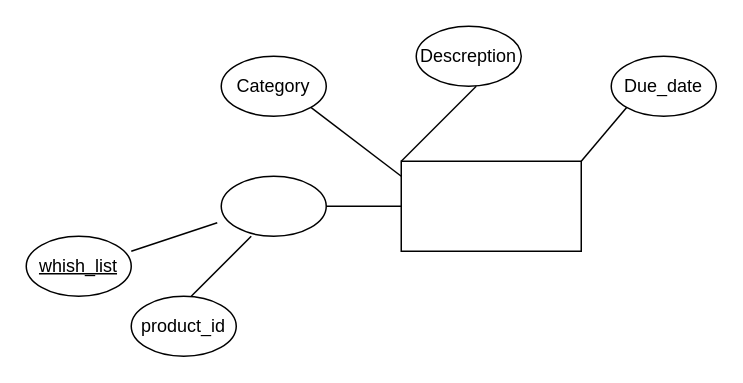
The diagram is 743 pixels wide and 383 high, and some of its shapes have lost their labels. Here are the shapes that lost their labels. From the top down, the box of each, then its label:
(220, 175, 326, 236): Add_dask
(400, 160, 581, 251): TODO App
